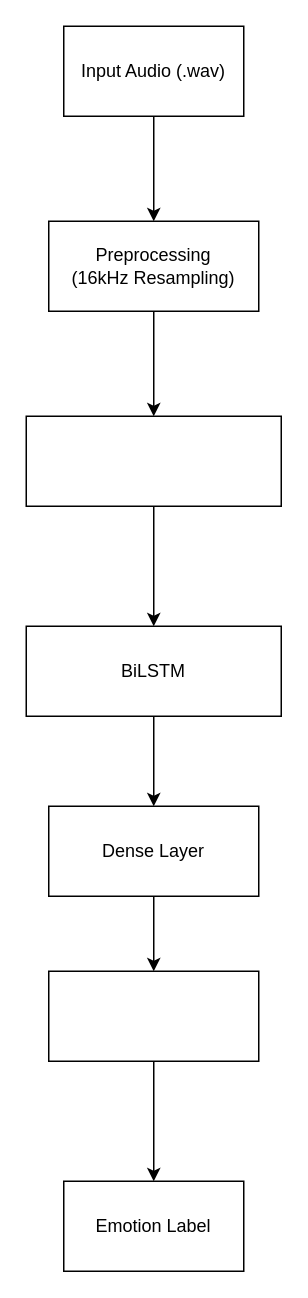
The diagram is 308 pixels wide and 1298 high, and some of its shapes have lost their labels. Each missing label, with the centre of its shape:
Softmax: the point at 153,1015
Wav2Vec2 Feature Extractor: the point at 153,460
